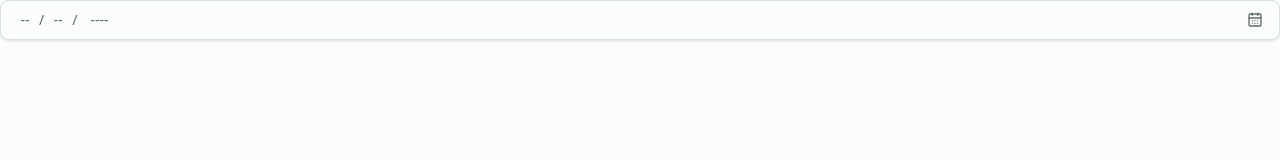
DateField › waits for the cursor to leave before adding the zero
Type "1" into the field named "Month" at (58, 20), box [46,10,70,30]
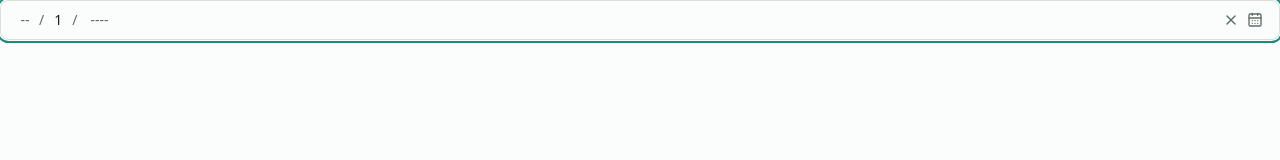
Type keys "2"
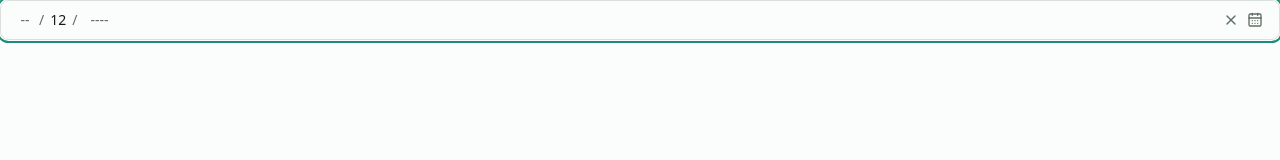
expect the field named "Month" holds "12": met, box [46,10,70,30]
